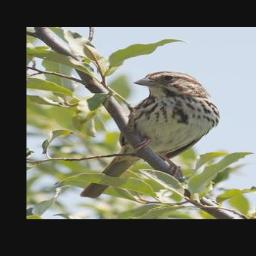Sparrow: (78, 71, 219, 198)
